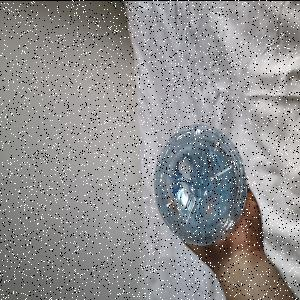Plastic-bottle: (154, 123, 249, 247)
